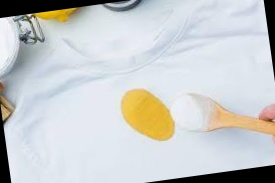mustard: (119, 84, 166, 144), (153, 102, 173, 144), (149, 117, 175, 137)
